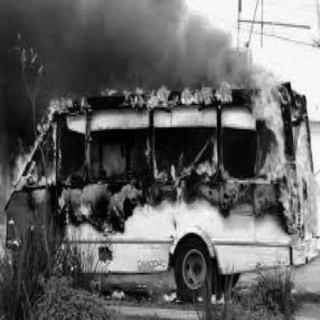Fire: (6, 72, 318, 235), (196, 286, 236, 312), (160, 281, 182, 308), (109, 284, 129, 308)
